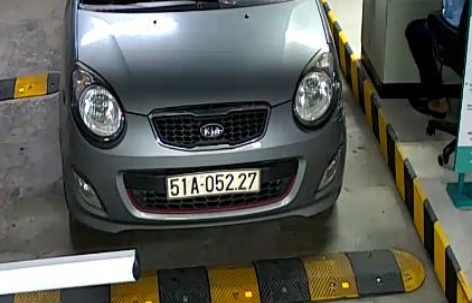plate: (167, 171, 263, 196)
